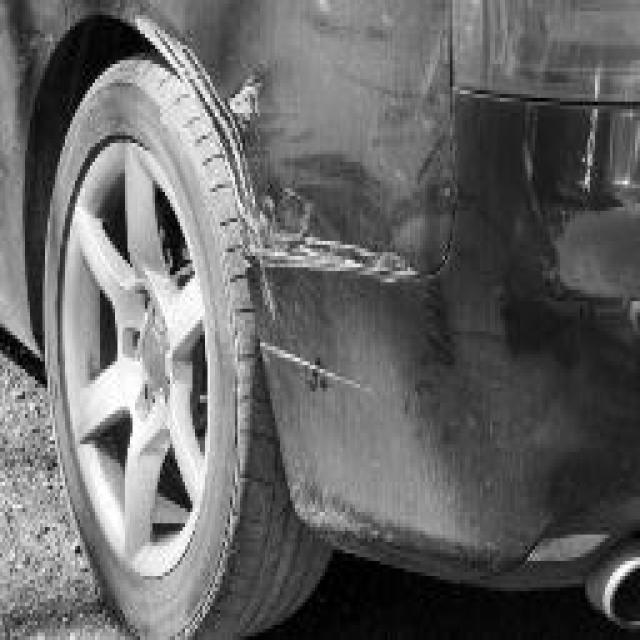Fender: (135, 4, 445, 264)
